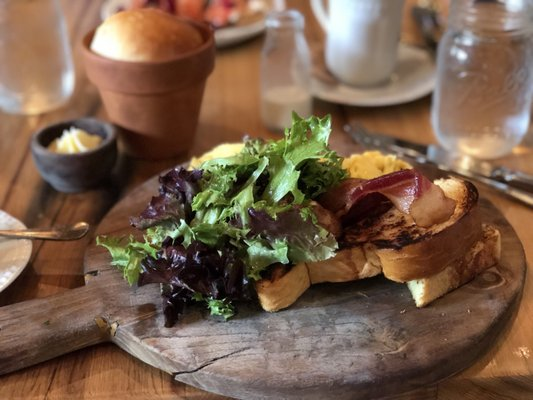pizza: (74, 5, 216, 162), (430, 0, 533, 161), (307, 0, 405, 87)
salad: (0, 222, 88, 243)
sandwich: (346, 120, 533, 210), (383, 138, 533, 211)
sushi: (30, 116, 119, 194)
